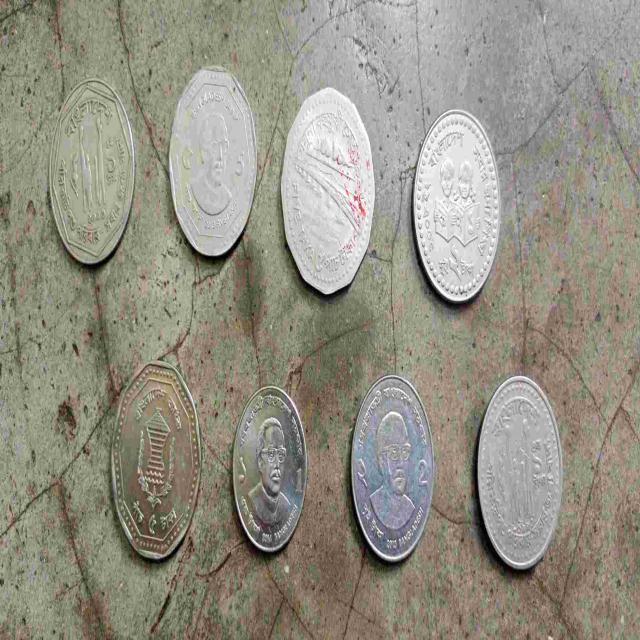1_taka: (220, 353, 322, 573), (472, 365, 576, 575), (40, 83, 145, 273)
2_taka: (405, 76, 518, 331), (342, 356, 441, 597)
5_taka: (94, 329, 205, 582), (273, 58, 387, 298), (164, 56, 268, 288)
